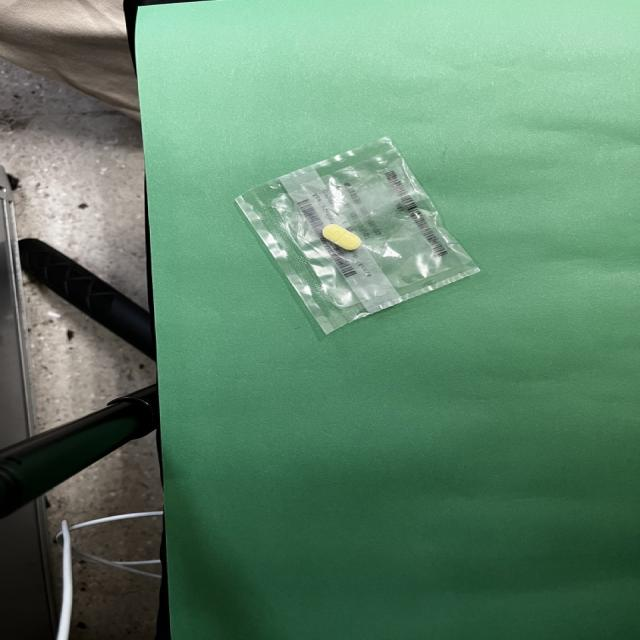Other Objects: (235, 138, 479, 334)
